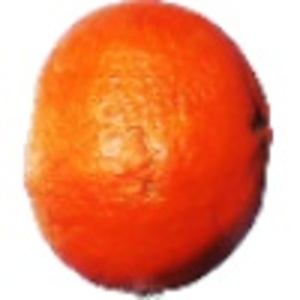tangerina: (21, 1, 275, 300)
